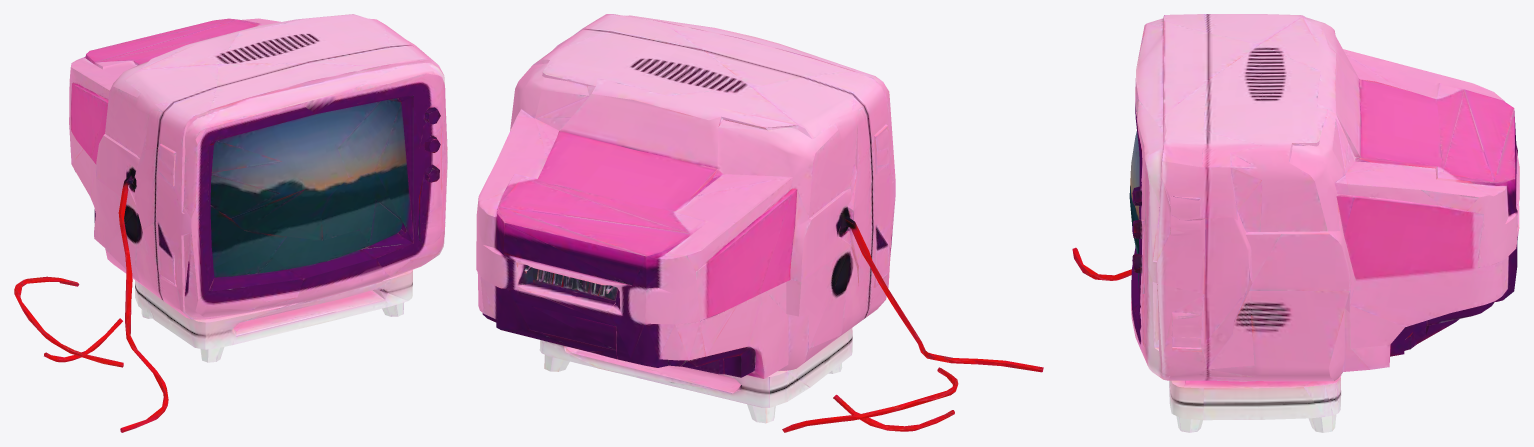
3 renders of one model, left to right at view 1: azimuth 30°, elevation 25°; view 2: azimuth 150°, elevation 25°; view 3: azimuth 270°, elevation 25°, orthographic. The views are drawn at different scales.
Size of the model in its own units: 1.9 by 1.31 by 1.73.
Materials: 1 (1 with a texture image).
